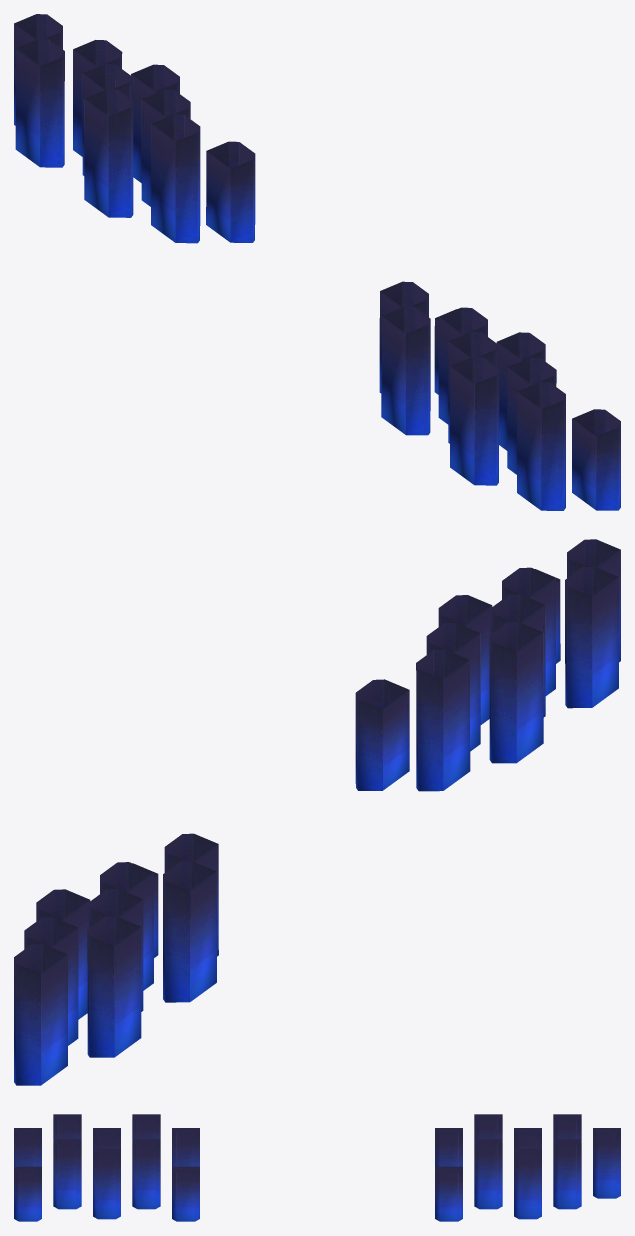
Rendered from Effect_yinlv03.FBX.
3 renders of one model, top to bottom at view 1: azimuth 30°, elevation 25°; view 2: azimuth 150°, elevation 25°; view 3: azimuth 270°, elevation 25°, orthographic. The views are drawn at different scales.
Visible parts, largest first — view 1: Effect_yinlv03; view 2: Effect_yinlv03; view 3: Effect_yinlv03.
Boxes of the visible parts, bbox=[...] form: Effect_yinlv03: bbox=[14, 14, 620, 510]; Effect_yinlv03: bbox=[14, 539, 620, 1085]; Effect_yinlv03: bbox=[14, 1114, 620, 1221].
Bounding box in the file's own units: 14.25 × 15.77 × 112.
Materials: 1 (1 with a texture image).
